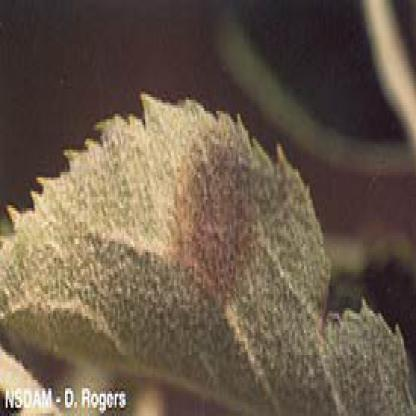Apple Scab Leaf: (3, 53, 414, 408)
